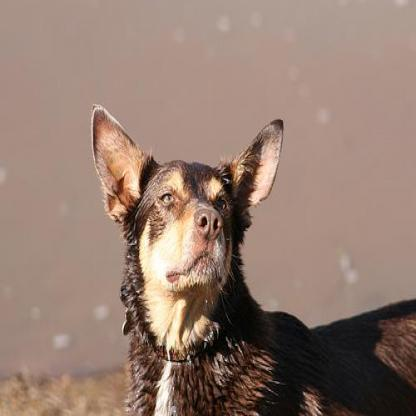kelpie: (89, 101, 414, 414)
